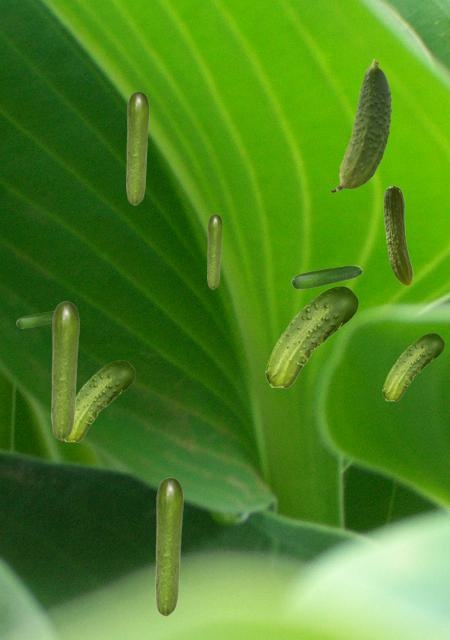cucumber: (265, 286, 357, 387), (331, 59, 391, 191), (63, 360, 134, 441), (382, 333, 443, 400), (155, 477, 182, 615), (51, 301, 78, 439), (383, 185, 412, 285), (126, 91, 148, 204), (291, 265, 361, 288), (207, 214, 221, 288), (16, 310, 53, 327)
